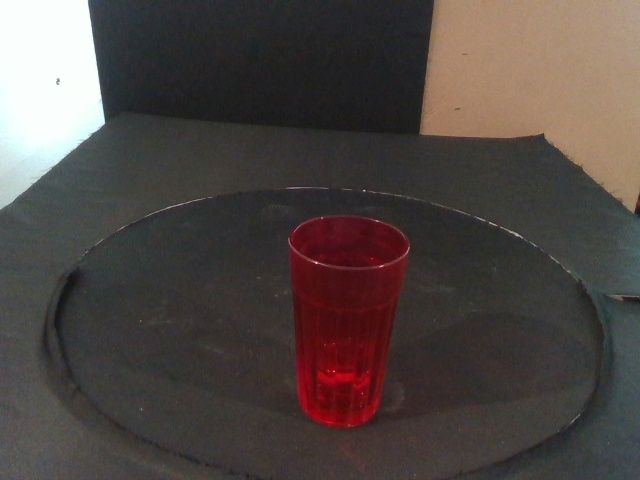glass: (288, 215, 411, 427)
